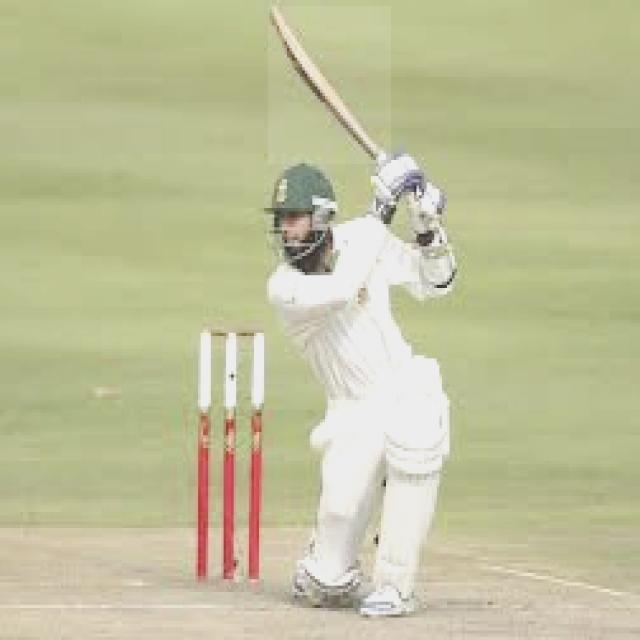bat: (265, 0, 390, 165)
toe: (266, 0, 284, 18)
